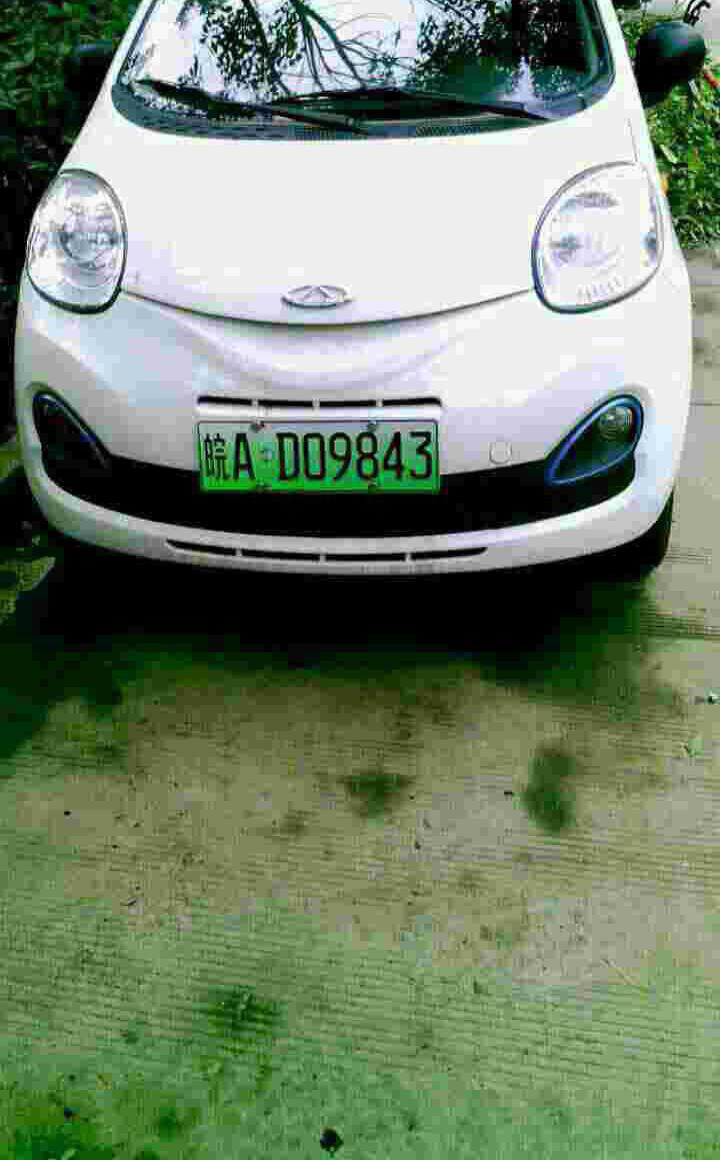car_id: (197, 419, 434, 491)
